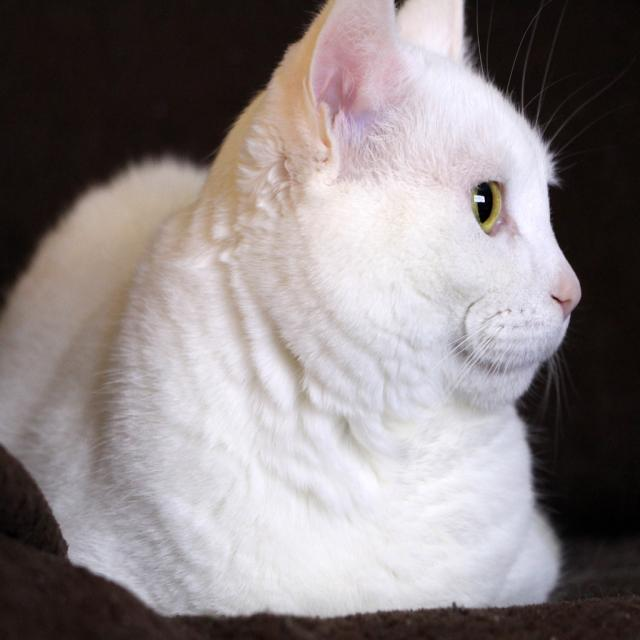Cat: (0, 0, 630, 617)
